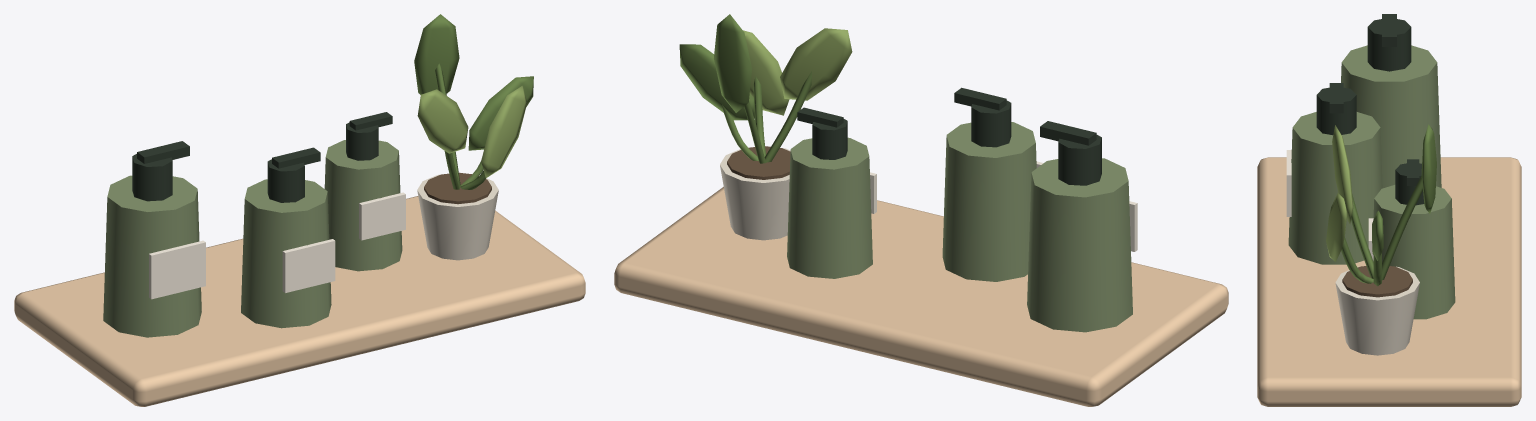
The model's file is bathroom_ref_laundry_top.glb.
The picture shows the model from 3 angles, left to right: view 1: azimuth 30°, elevation 25°; view 2: azimuth 150°, elevation 25°; view 3: azimuth 270°, elevation 25°; orthographic projection. The views are drawn at different scales.
Size of the model in its own units: 0.9268 by 0.4752 by 0.45.
